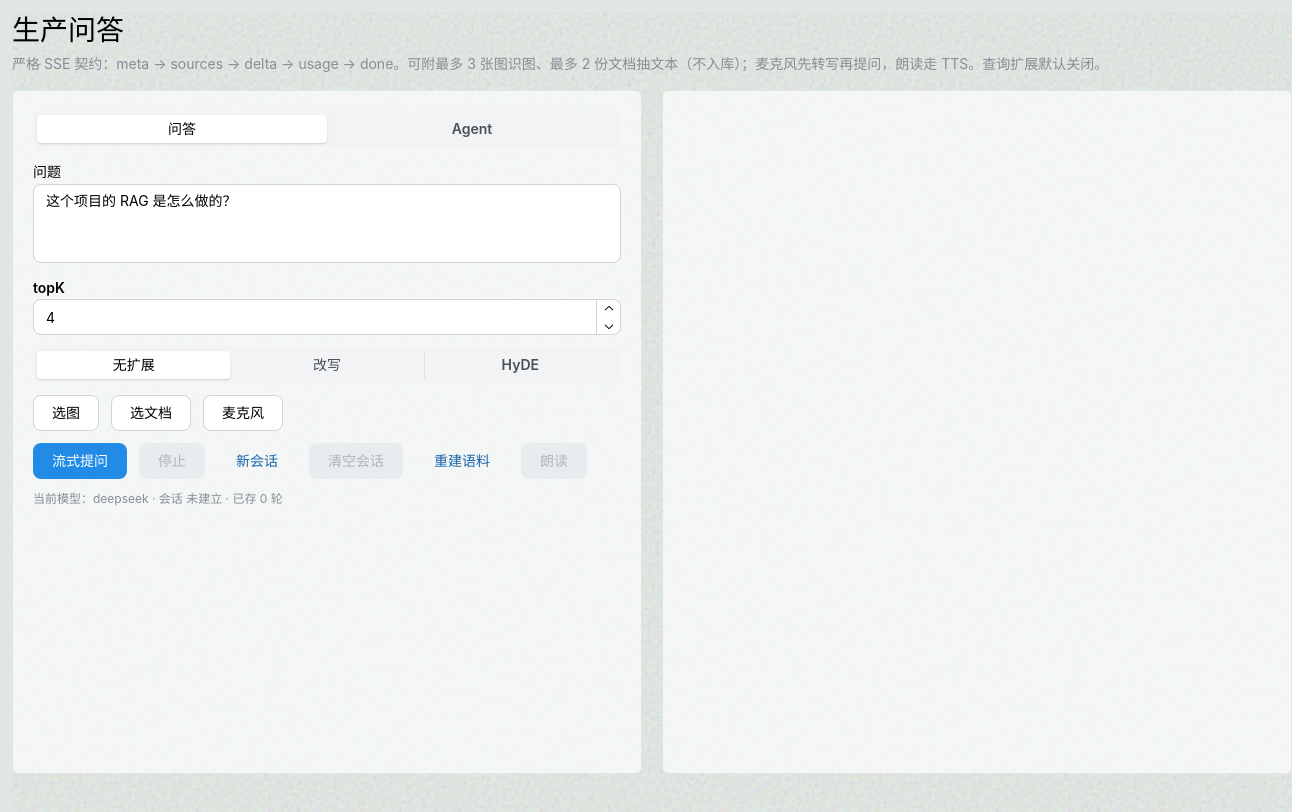
Scenario: ProductionChatPanel › 完整流展示答案、来源与已完成状态
Click the button "流式提问". click: (80, 461)
box: top-left (33, 443), bottom-right (127, 479)
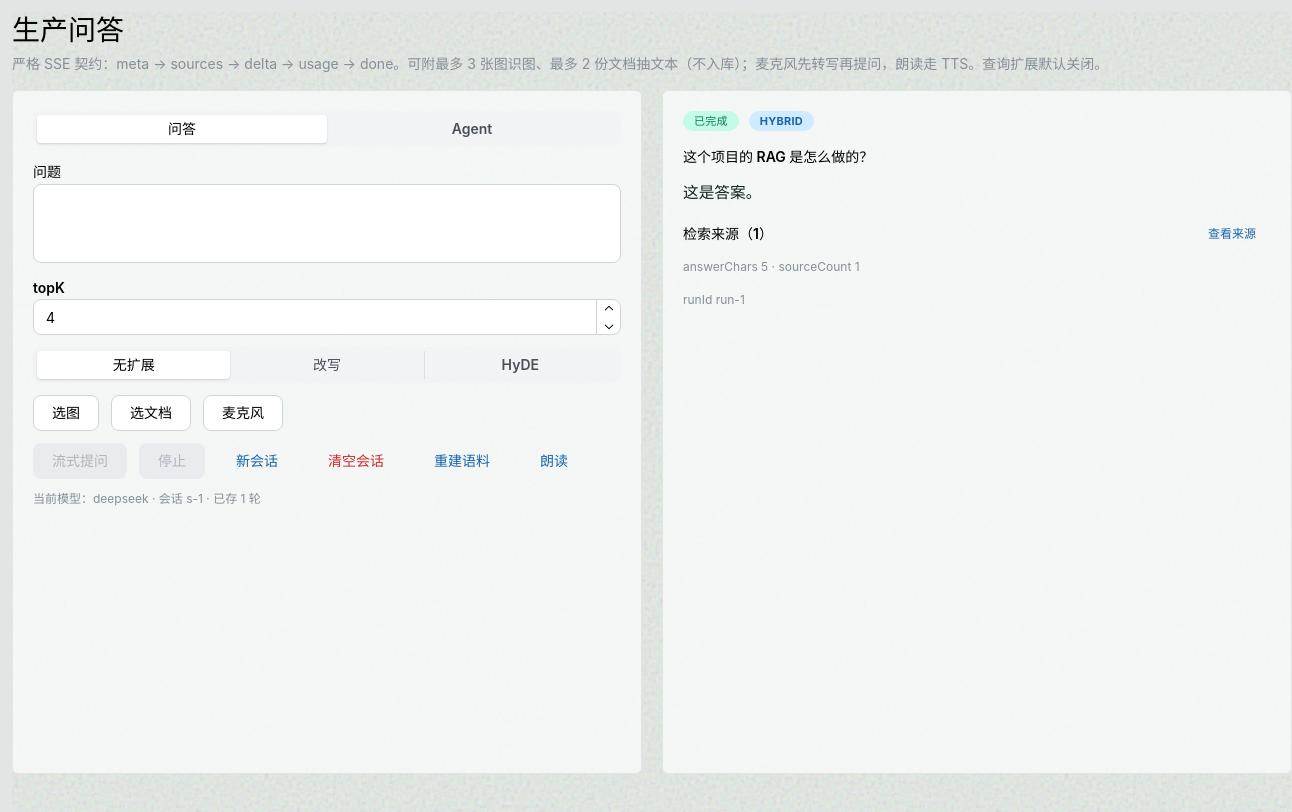
Result: the text "已完成" is shown at top-left (694, 112), bottom-right (728, 130)
Result: the text "这是答案。" is shown at top-left (683, 183), bottom-right (761, 202)
Result: the text "hybrid" is shown at top-left (760, 112), bottom-right (803, 130)
